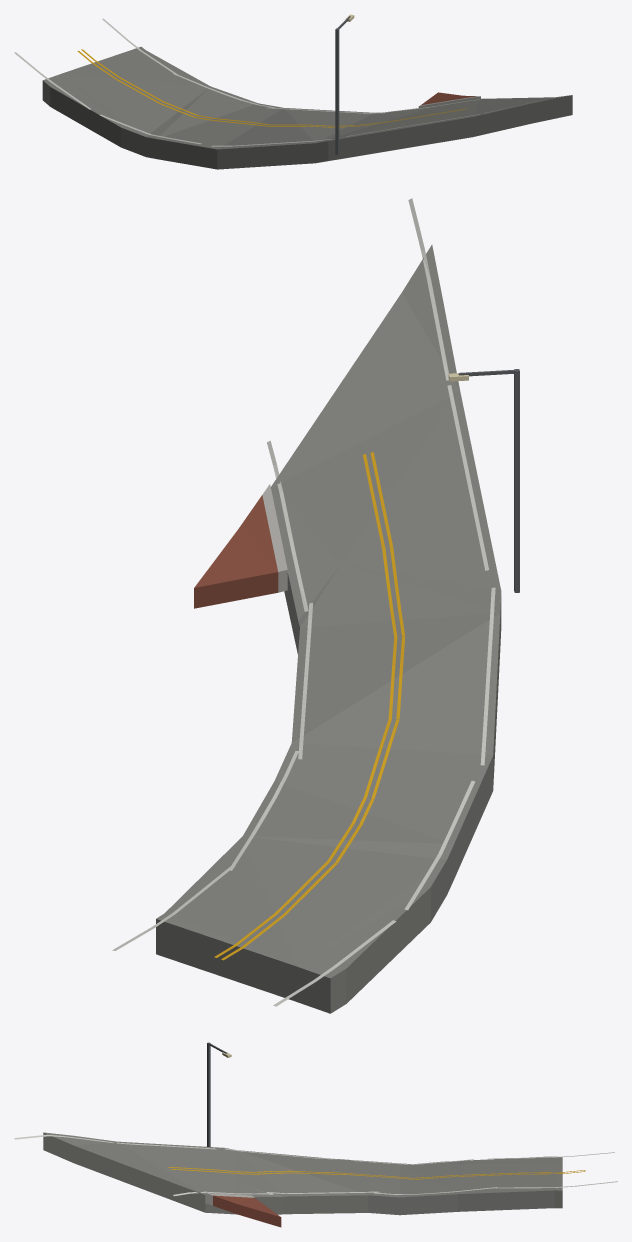
3 views of the same model, one above another, from view 1: azimuth 30°, elevation 25°; view 2: azimuth 150°, elevation 25°; view 3: azimuth 270°, elevation 25° (orthographic). The views are drawn at different scales.
Bounding box in the file's own units: 16.67 × 11.66 × 37.04.
